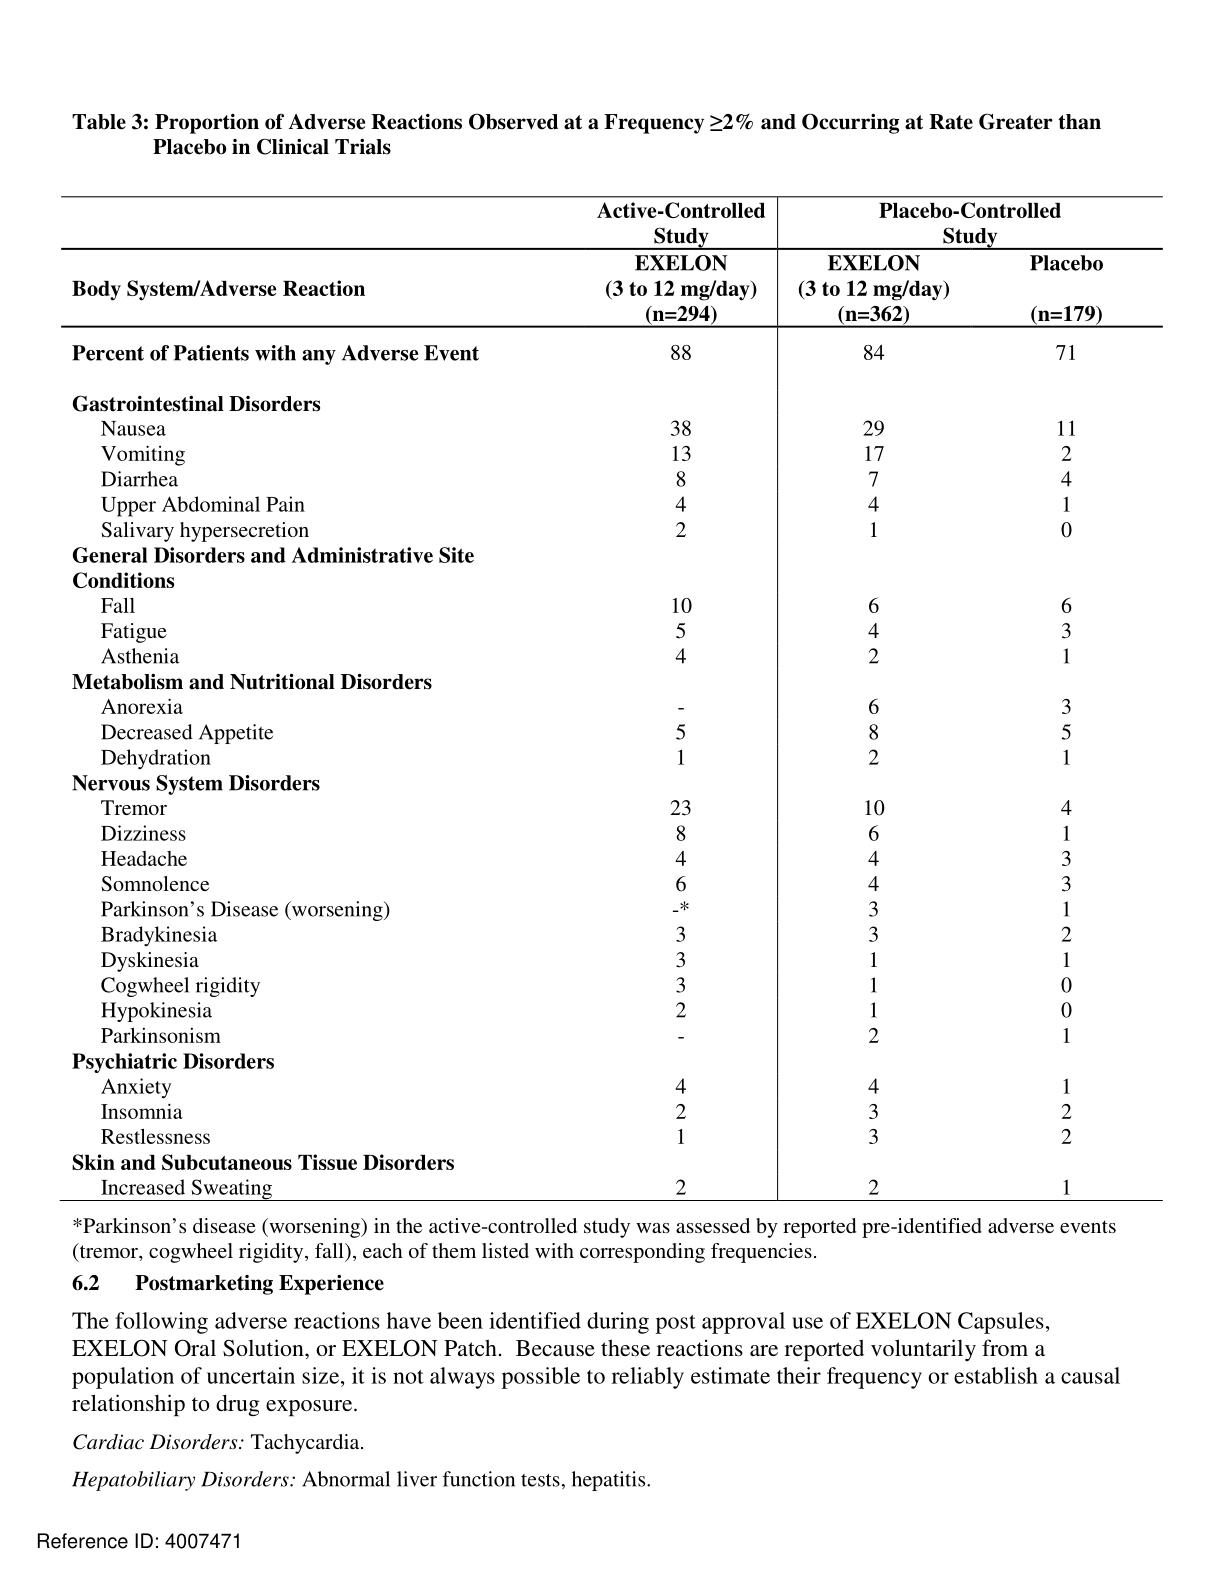partial_lined: (58, 192, 1165, 1203)
